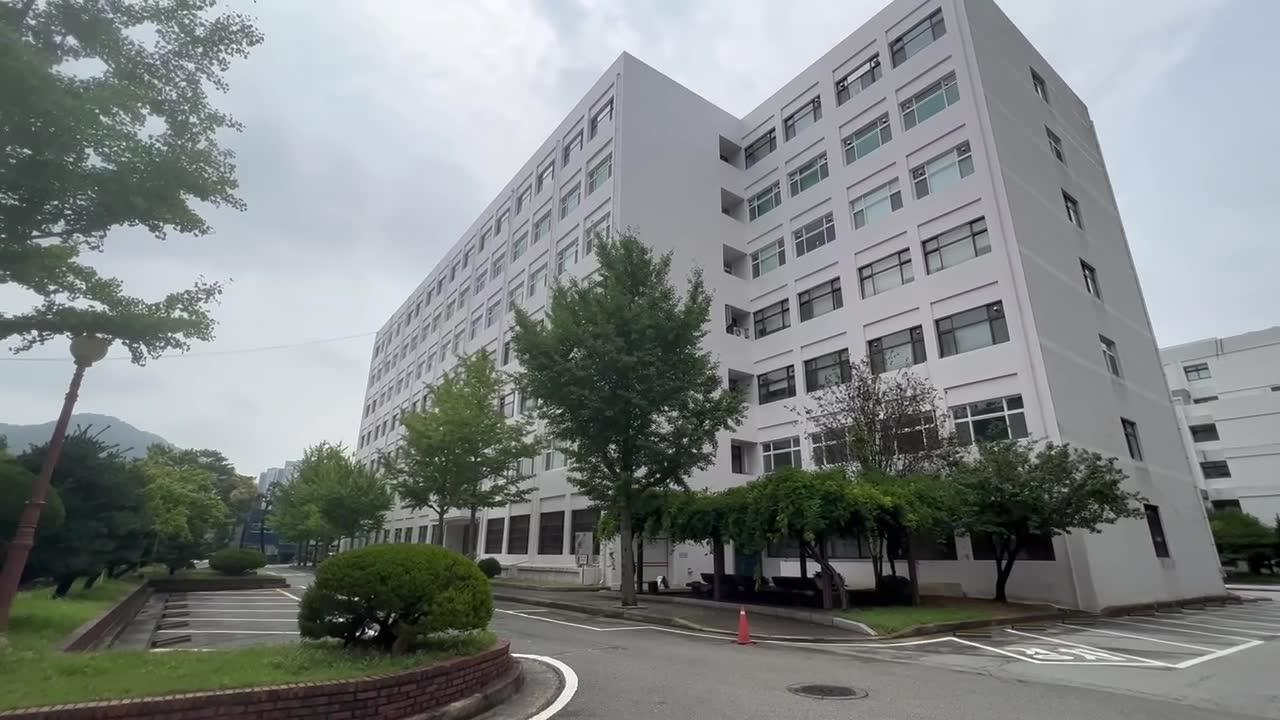building: (716, 20, 1177, 398)
